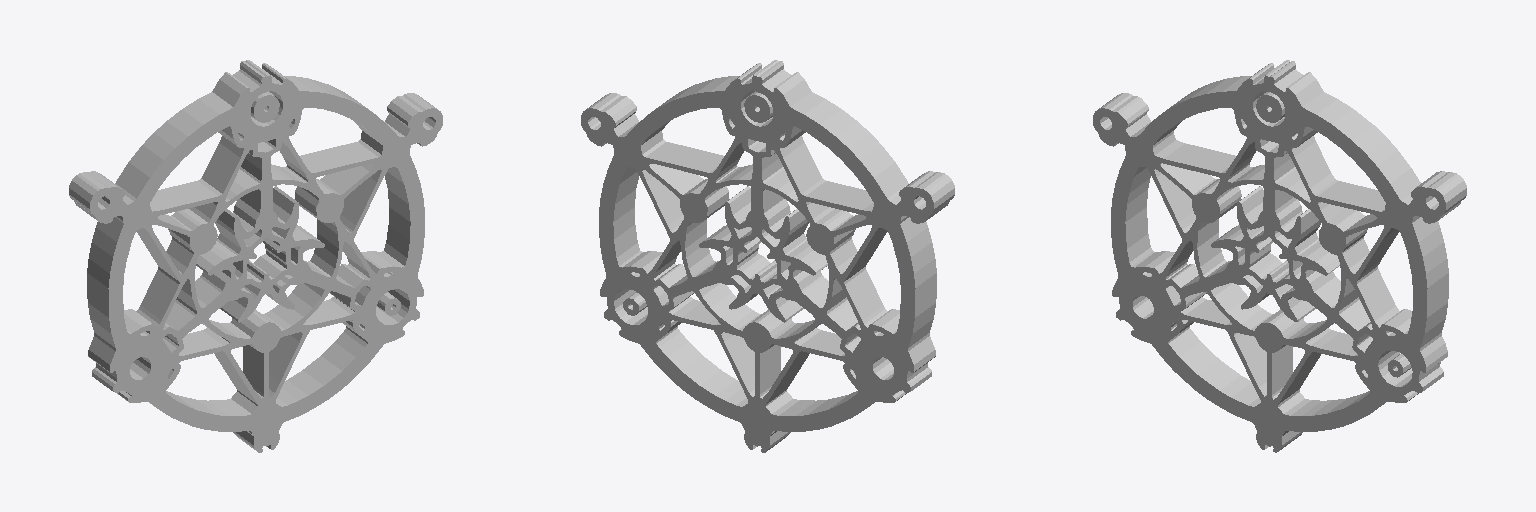
The model's file is necronomicon magic circle glow.obj.
The picture shows the model from 3 angles: view 1: azimuth 30°, elevation 25°; view 2: azimuth 150°, elevation 25°; view 3: azimuth 330°, elevation 25°; orthographic projection.
Parts seen in each view (by area): view 1: Object.1, Object.2; view 2: Object.1, Object.2; view 3: Object.1, Object.2.
Boxes of the visible parts, box(x1,y1,x2,y2) form: Object.1: box(69, 60, 442, 452); Object.2: box(251, 91, 279, 122); Object.1: box(581, 60, 954, 452); Object.2: box(744, 91, 772, 122); Object.1: box(1093, 60, 1466, 452); Object.2: box(1256, 92, 1284, 122).
Size of the model in its own units: 175 by 178 by 18.39.